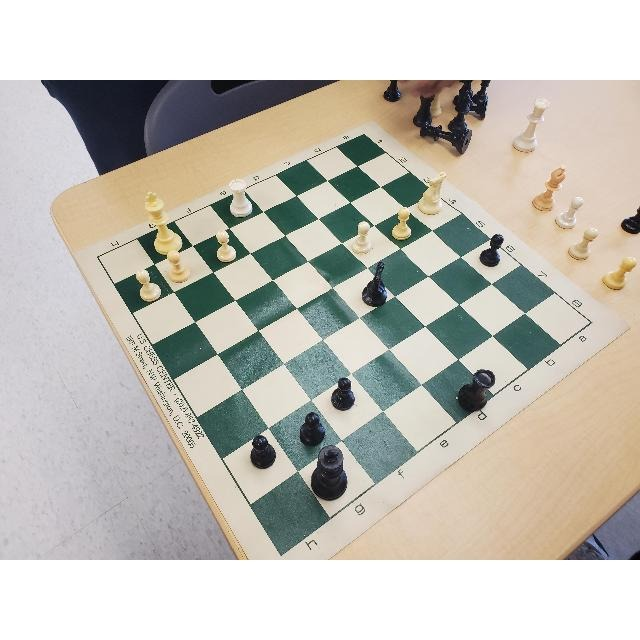black-king: (308, 444, 349, 502)
black-knight: (362, 259, 388, 307)
black-pawn: (478, 232, 505, 268), (250, 435, 278, 469), (330, 376, 356, 412), (300, 410, 326, 445)
black-rook: (456, 367, 496, 413)
white-king: (142, 192, 184, 256)
white-knight: (418, 172, 447, 216)
white-pawn: (164, 249, 193, 284), (136, 267, 162, 302), (350, 220, 373, 256), (390, 206, 413, 240), (215, 229, 238, 263)
white-rook: (229, 179, 253, 218)
